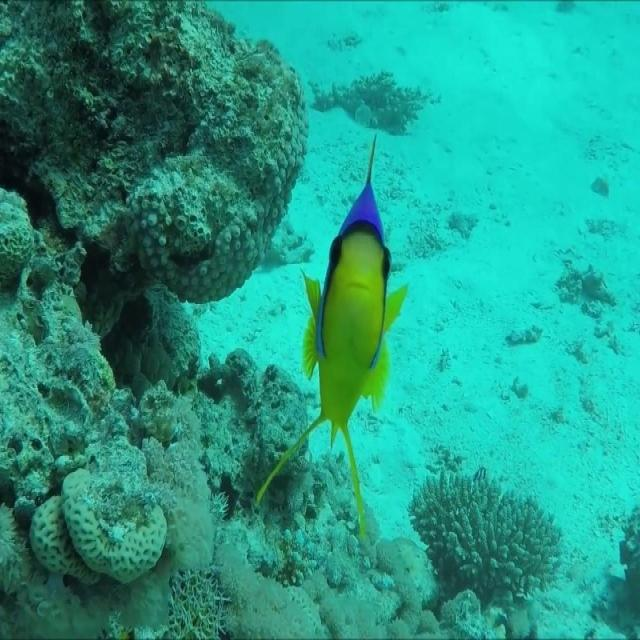fish: (255, 130, 409, 548)
reefs: (411, 467, 562, 605), (29, 468, 178, 590), (308, 70, 430, 136)
sea-floor: (0, 0, 537, 639)
